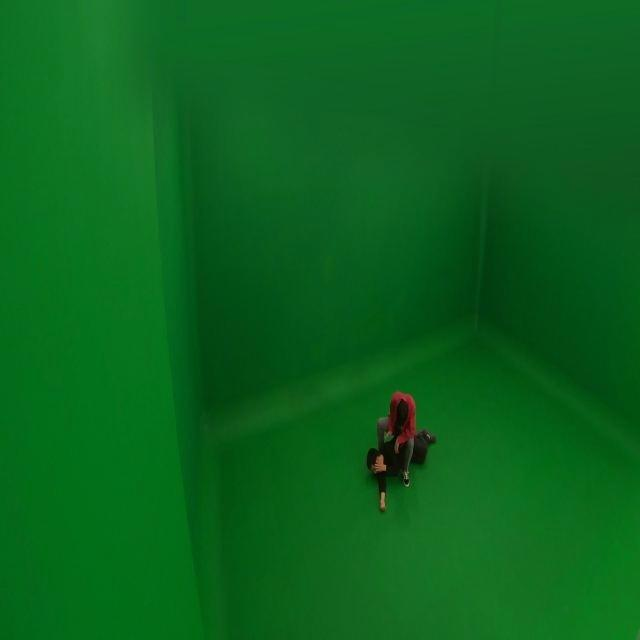fight: (365, 388, 435, 513)
